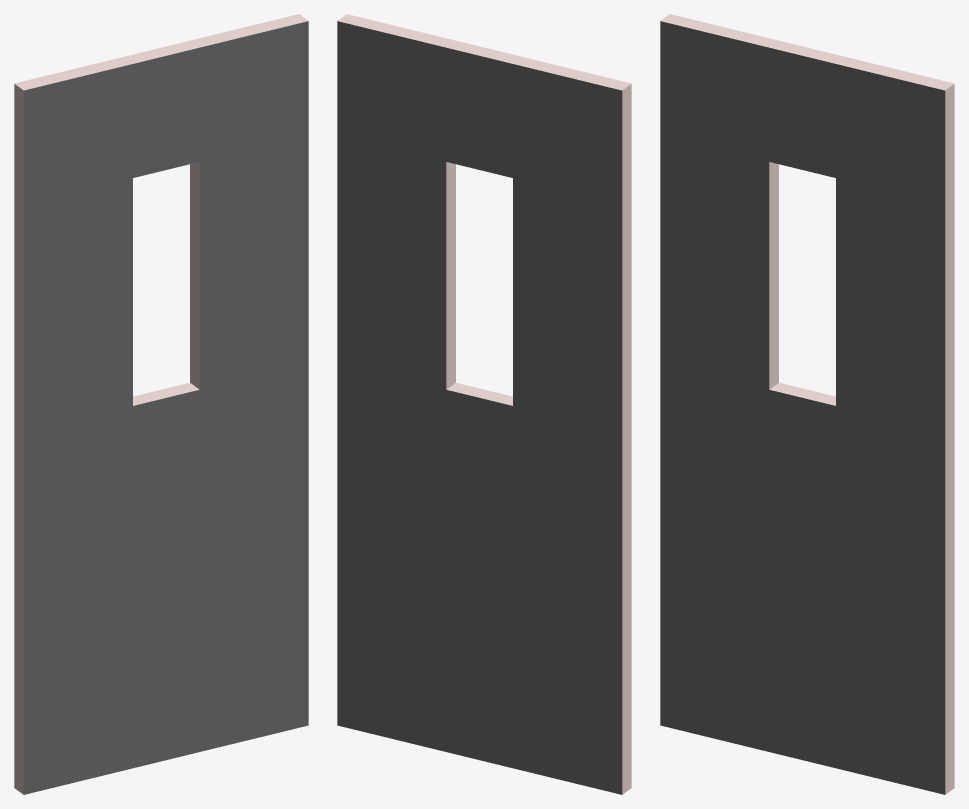
The model's file is Door1x2_25Wind.gltf.
3 views of the same model, side by side, from view 1: azimuth 30°, elevation 25°; view 2: azimuth 150°, elevation 25°; view 3: azimuth 330°, elevation 25° (orthographic).
Parts seen in each view (by area): view 1: Door1x2_25WindShape; view 2: Door1x2_25WindShape; view 3: Door1x2_25WindShape.
Part boxes in pixels (box(x1,y1,x2,y2)): Door1x2_25WindShape: box(14, 14, 308, 794); Door1x2_25WindShape: box(337, 14, 631, 794); Door1x2_25WindShape: box(660, 14, 954, 794).
Bounding box in the file's own units: 94 × 222 × 5.51.
Materials: 1 (1 with a texture image).
